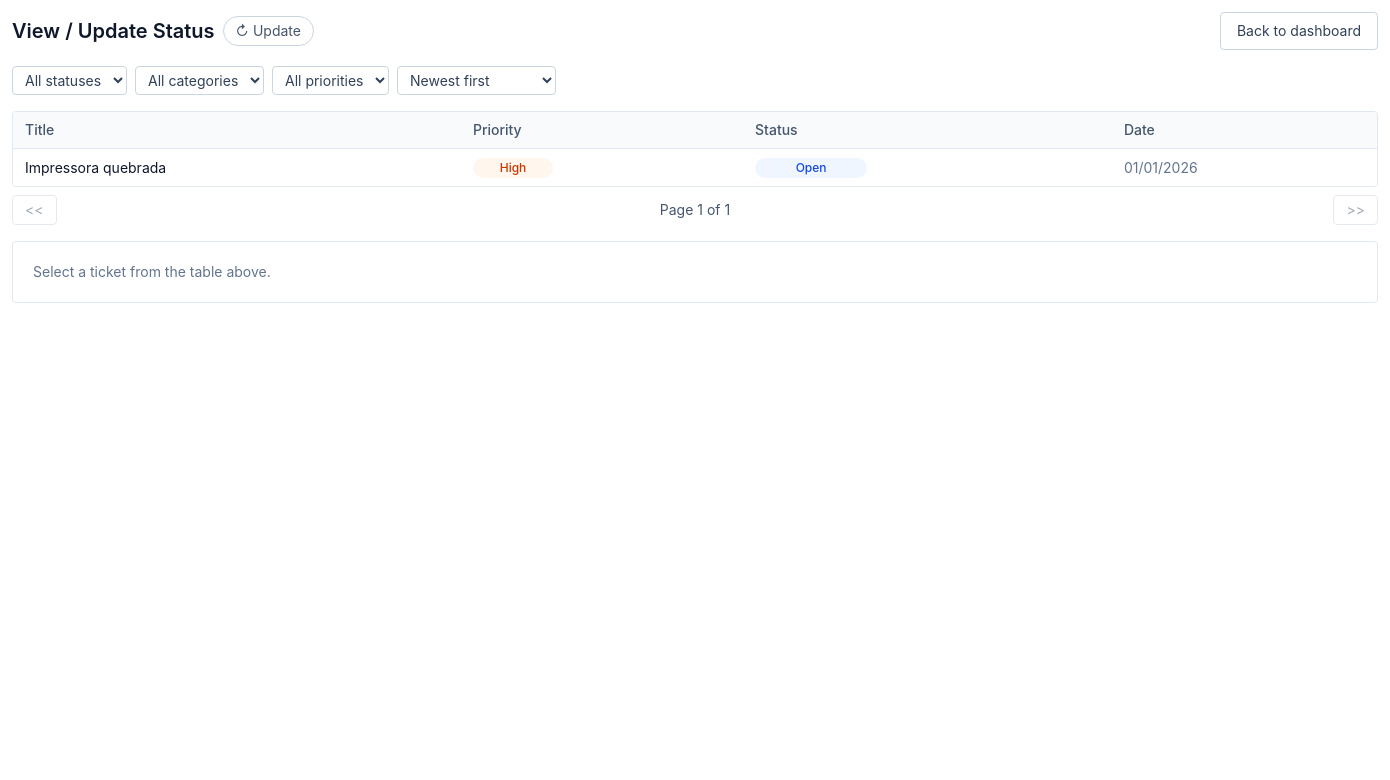
Scenario: TicketStatusPage › hides the advance-status control for non-support users
Click the text "Impressora quebrada" at (96, 167), box [13,148,461,186]
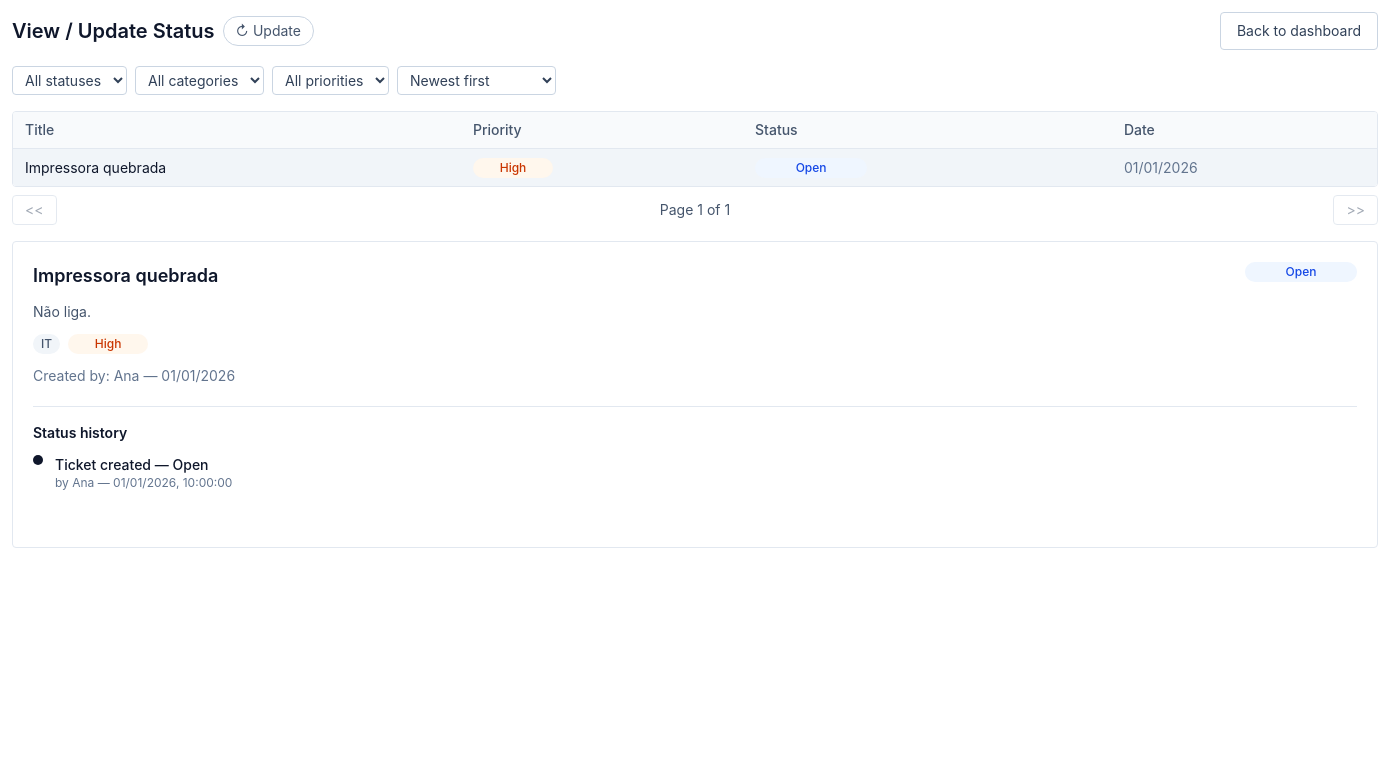
Expected: the text "Não liga." is shown, [33,303,91,320]
